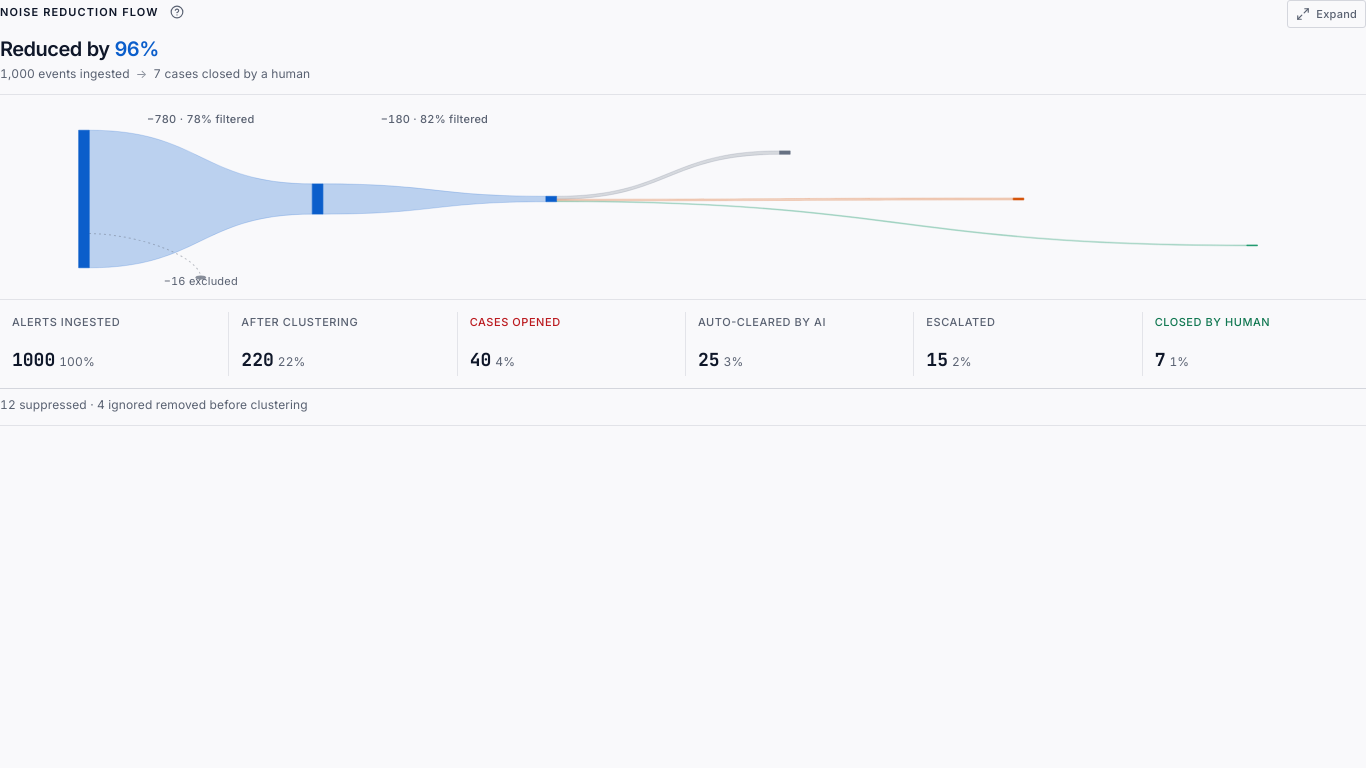
it: NoiseFunnel › shows a retryable lineage error without hiding the aggregate flow
This screenshot has width=1366, height=768.
Click the button with aria-label "Expand noise reduction flow" at (1327, 14), box [1287,0,1365,28]
(page scrolled)
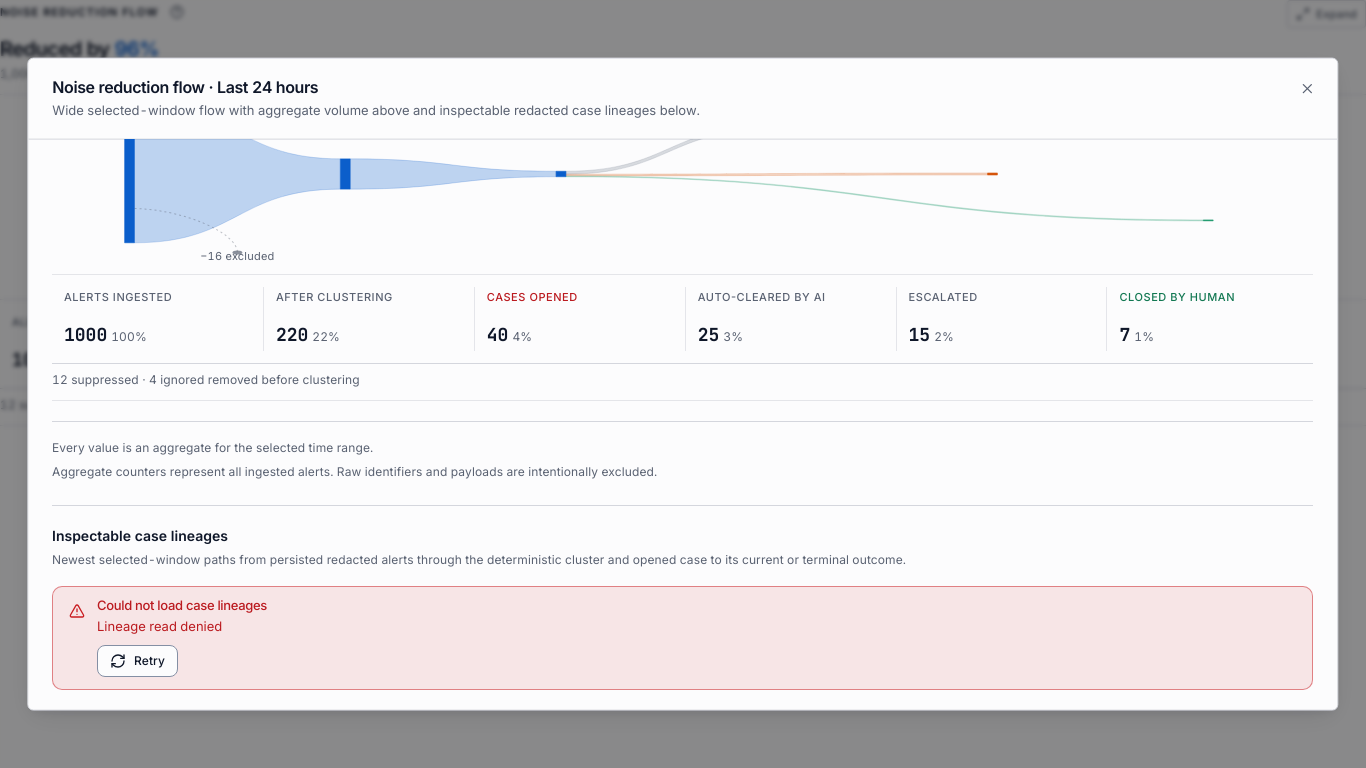
Expected: the element named "Expanded noise reduction funnel" is shown, [52,140,1314,401]
Expected: the text "Lineage read denied" is shown, [97,617,223,633]
Click the button "Retry" at (138, 660), box [97,644,178,676]
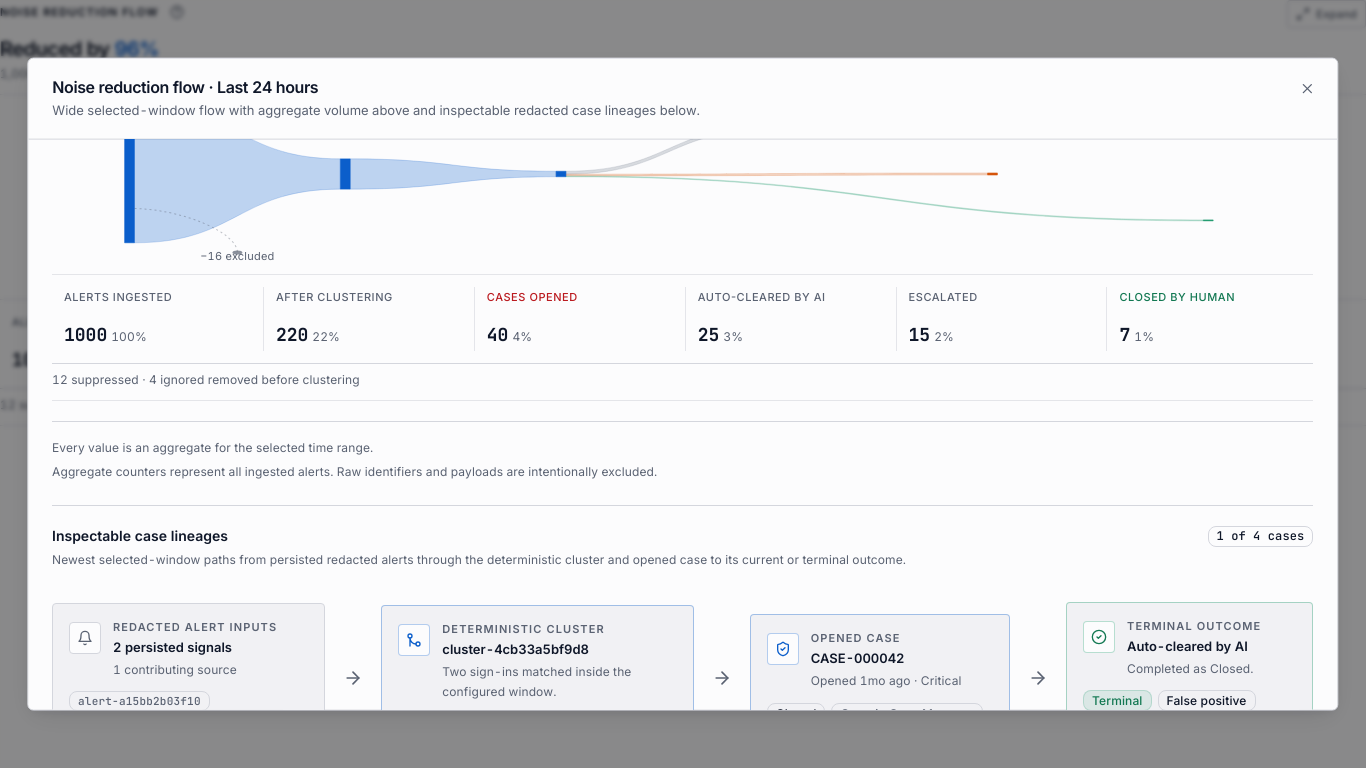
Expected: the text "cluster-4cb33a5bf9d8" is shown, [443,641,589,657]
